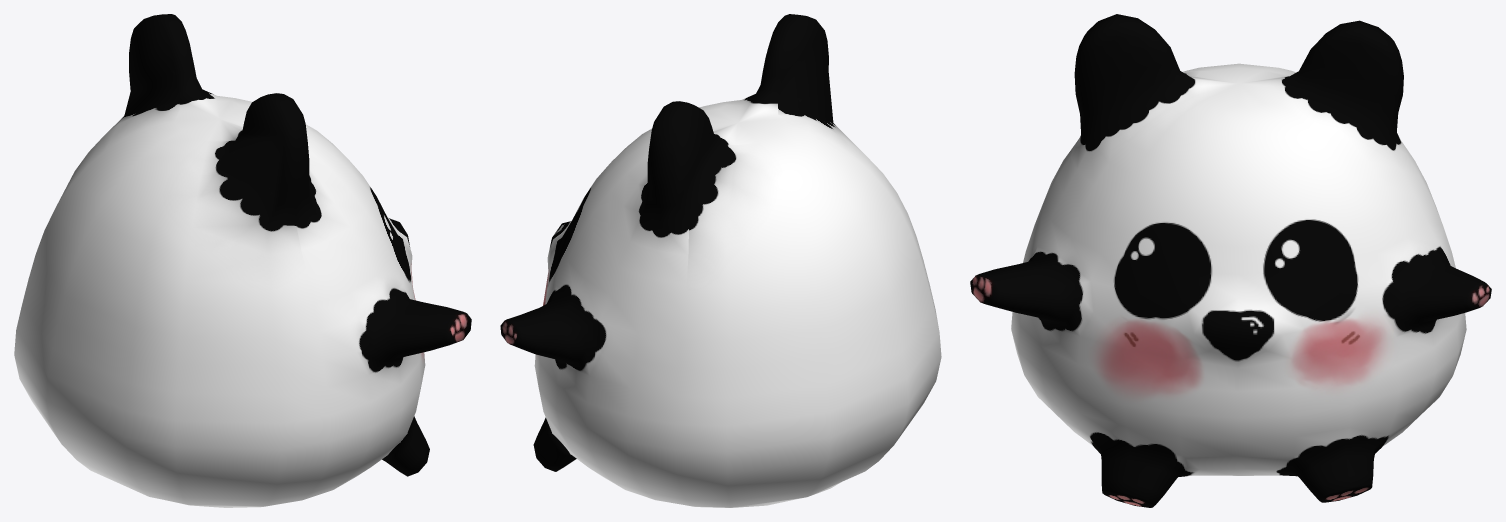
Rendered from panda glavni igrac fbx file.fbx.
3 views of the same model, side by side, from view 1: azimuth 30°, elevation 25°; view 2: azimuth 150°, elevation 25°; view 3: azimuth 270°, elevation 25° (orthographic). The views are drawn at different scales.
Visible parts, largest first — view 1: panda; view 2: panda; view 3: panda.
Boxes of the visible parts, x1,y1,x2,y2 form: panda: [14, 14, 471, 507]; panda: [500, 14, 941, 507]; panda: [970, 14, 1491, 507].
Bounding box in the file's own units: 100 × 112 × 125.
1 material, 1 textured.
